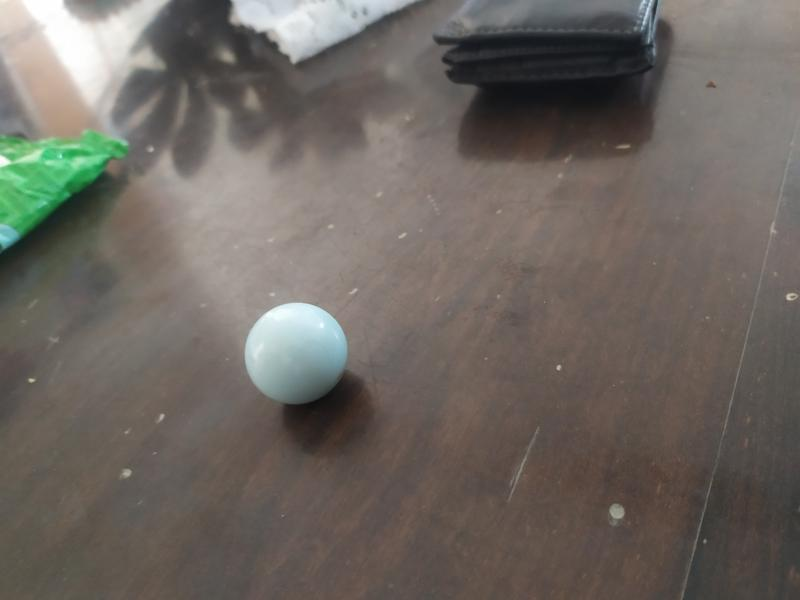Warning: (242, 299, 352, 408)
